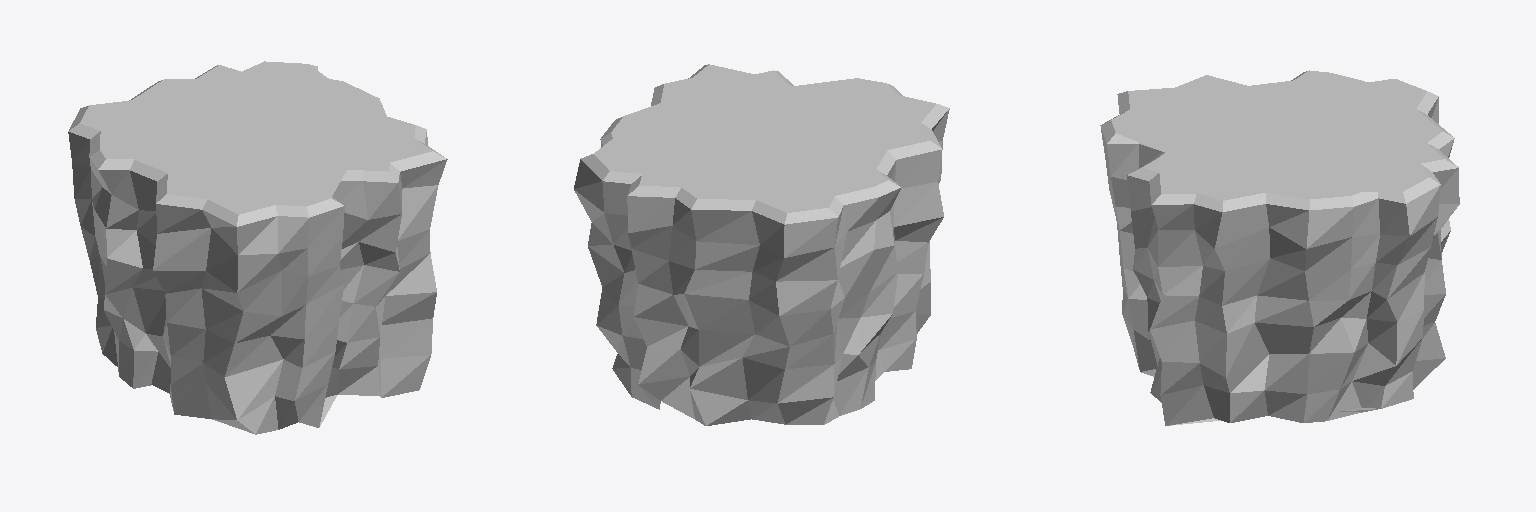
File: Cliff.obj
3 renders of one model, left to right at view 1: azimuth 30°, elevation 25°; view 2: azimuth 150°, elevation 25°; view 3: azimuth 270°, elevation 25°, orthographic.
Visible parts, largest first — view 1: Plane; view 2: Plane; view 3: Plane.
Part boxes in pixels (x1,y1,x2,y2): Plane: (68, 61, 447, 434); Plane: (574, 64, 949, 425); Plane: (1100, 70, 1459, 425).
Size of the model in its own units: 2.05 by 1.61 by 2.19.